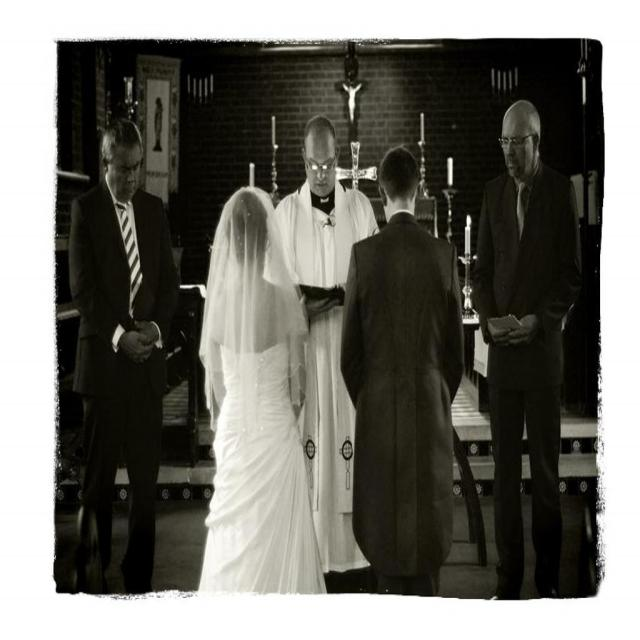nomask: (304, 125, 340, 202), (110, 136, 145, 211), (501, 114, 535, 185)
